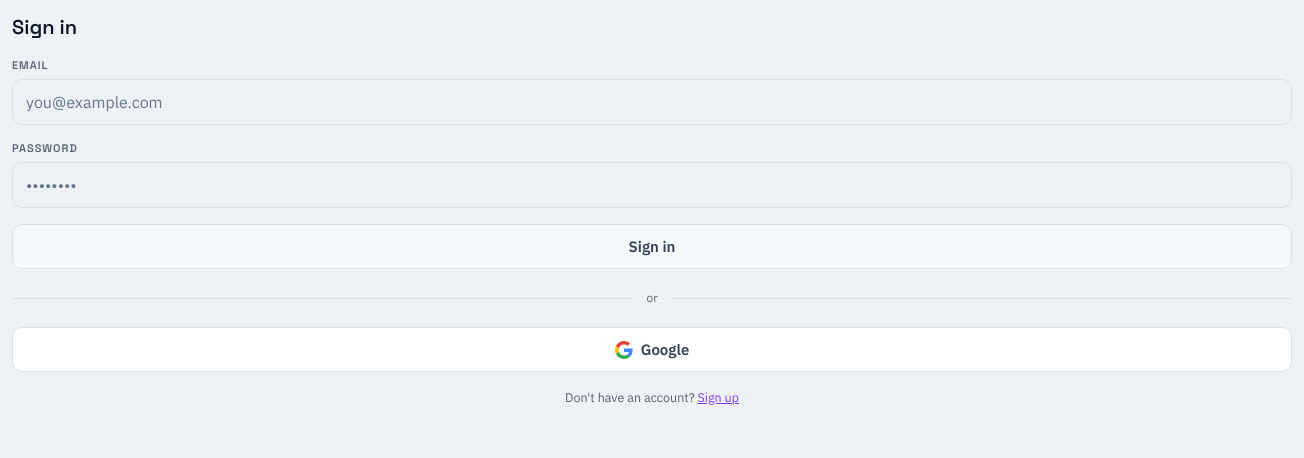
Test: SignInForm › surfaces a Google sign-in failure
The width and height of the screenshot is (1304, 458).
Click the button "Google".
click(652, 350)  # box [12,327,1292,372]
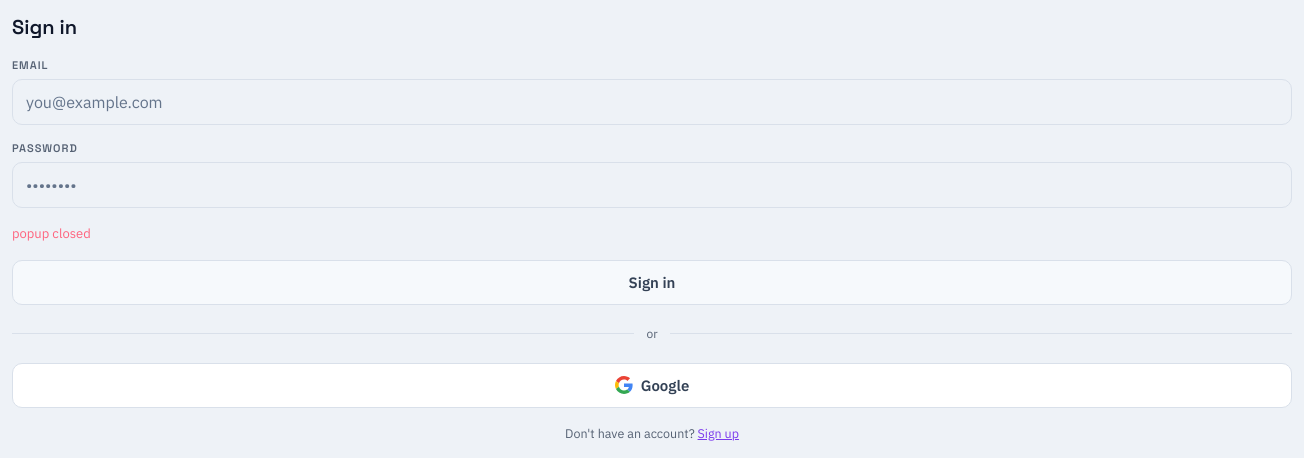
Check: the text "popup closed" is shown, box [12,225,91,242]
